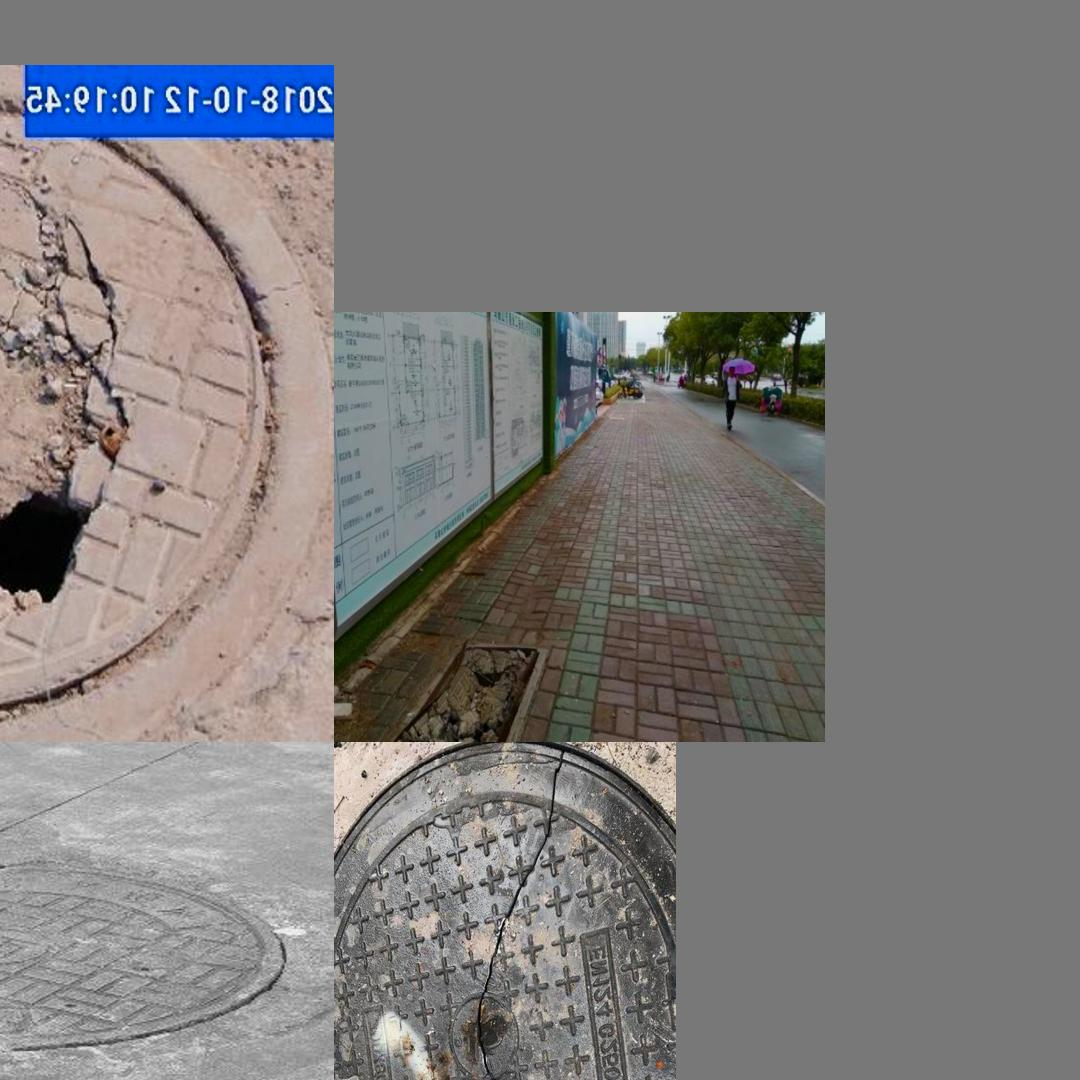broke: (0, 110, 293, 705), (340, 746, 671, 1080), (0, 847, 288, 1049), (389, 637, 549, 742)
